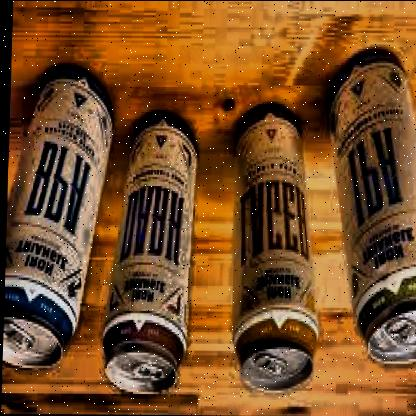Can: (1, 60, 115, 372), (316, 46, 416, 366), (98, 107, 202, 398), (224, 98, 322, 394)
